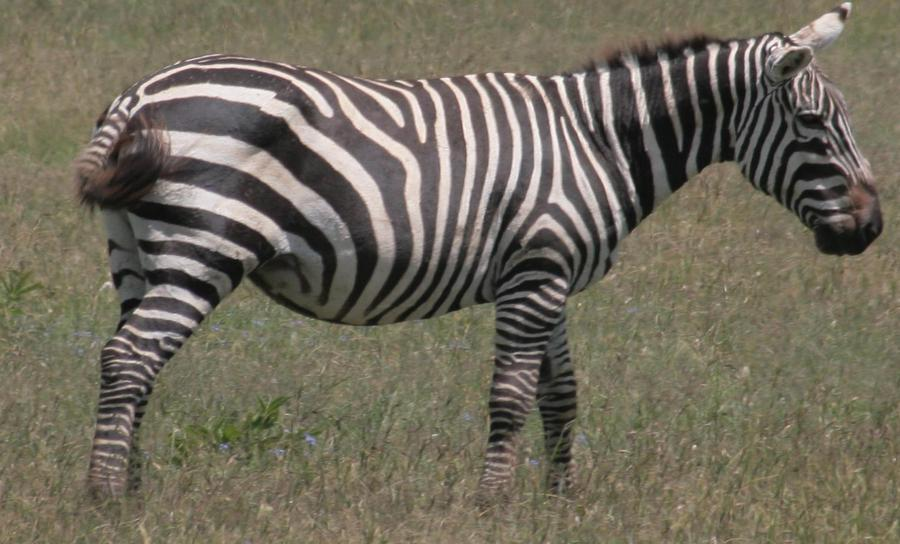zebra_plains: (95, 21, 646, 338)
